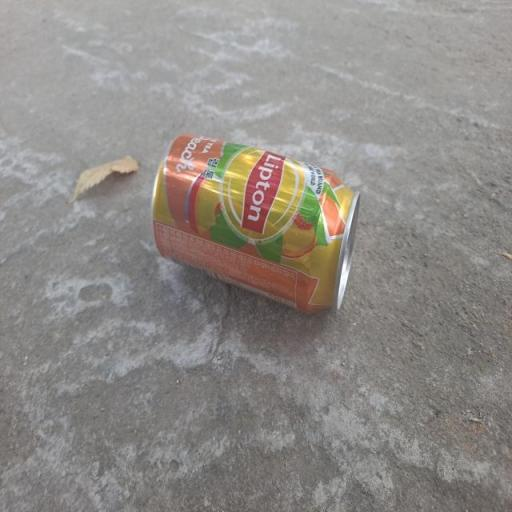metal: (136, 115, 382, 345)
